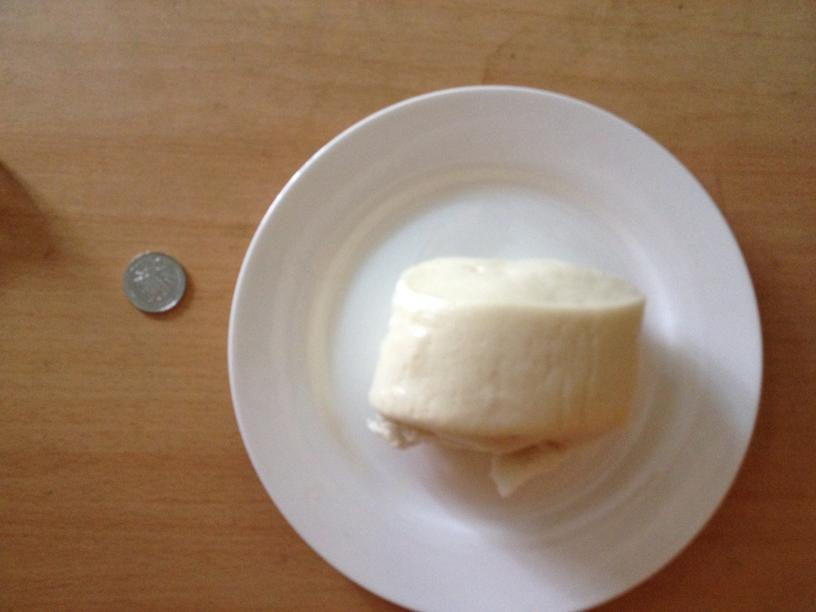bun: (356, 254, 644, 481)
coin: (121, 252, 186, 314)
